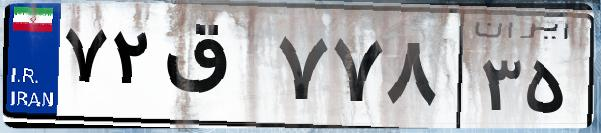2: (110, 28, 158, 98)
3: (475, 38, 525, 113)
5: (525, 38, 570, 115)
7: (270, 28, 330, 110), (330, 28, 385, 110), (57, 26, 110, 100)
8: (385, 28, 445, 110)
ق: (158, 20, 270, 120)
